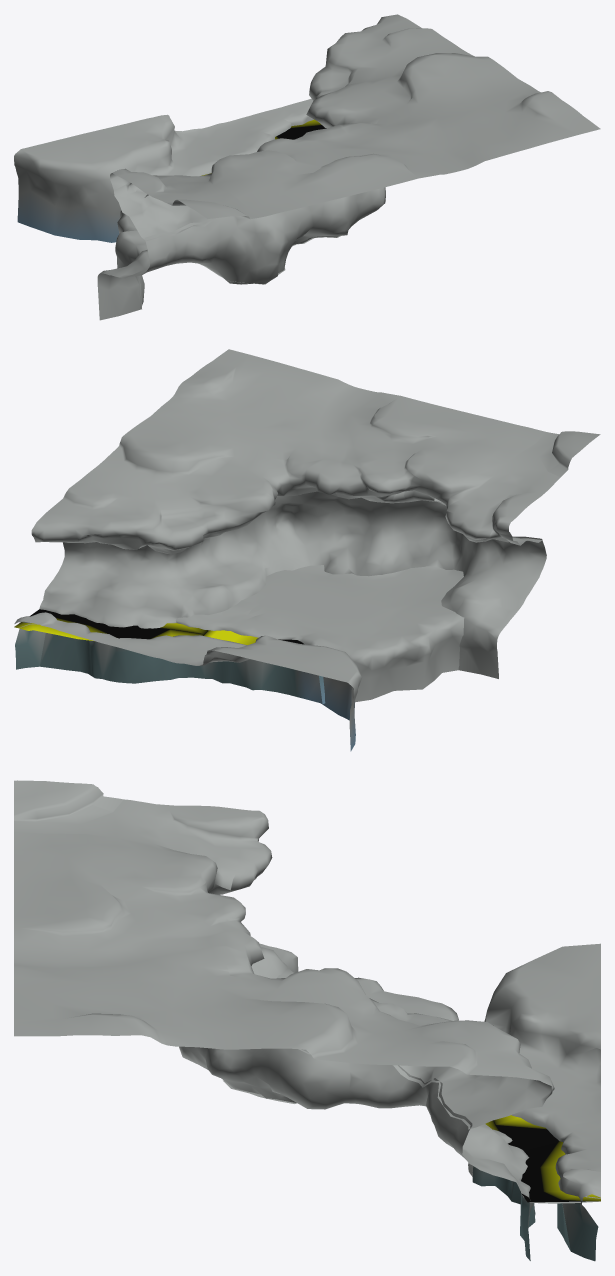
3 renders of one model, top to bottom at view 1: azimuth 30°, elevation 25°; view 2: azimuth 150°, elevation 25°; view 3: azimuth 270°, elevation 25°, orthographic. The views are drawn at different scales.
Parts seen in each view (by area): view 1: G:\FFXIV-MapTools\exports\w1f1\bg\ffxiv\wil_w1\fld\w1f1\bgpl (×12); view 2: G:\FFXIV-MapTools\exports\w1f1\bg\ffxiv\wil_w1\fld\w1f1\bgpl (×13); view 3: G:\FFXIV-MapTools\exports\w1f1\bg\ffxiv\wil_w1\fld\w1f1\bgpl (×13).
Part boxes in pixels (x1=…): G:\FFXIV-MapTools\exports\w1f1\bg\ffxiv\wil_w1\fld\w1f1\bgpl (×12): x1=14, y1=14, x2=600, y2=320; G:\FFXIV-MapTools\exports\w1f1\bg\ffxiv\wil_w1\fld\w1f1\bgpl (×13): x1=14, y1=349, x2=600, y2=751; G:\FFXIV-MapTools\exports\w1f1\bg\ffxiv\wil_w1\fld\w1f1\bgpl (×13): x1=14, y1=780, x2=600, y2=1261.
Size of the model in its own units: 128 by 56.78 by 128.
